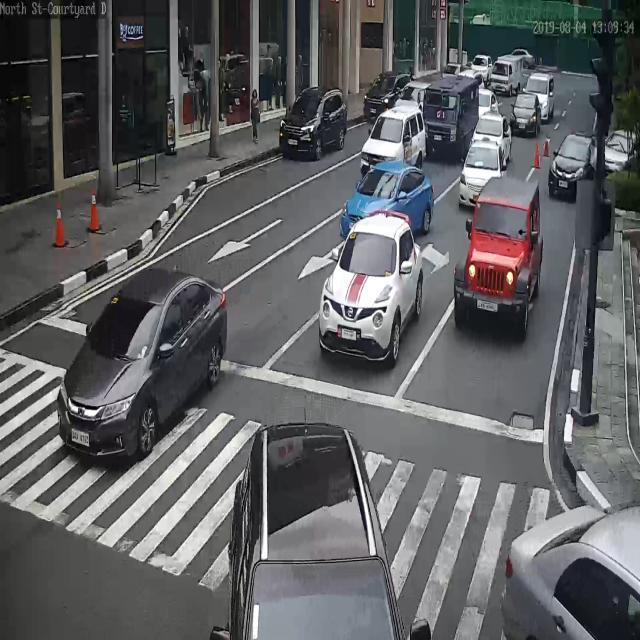bus: (422, 77, 479, 154)
car: (227, 422, 407, 640), (56, 266, 229, 459), (504, 501, 640, 639), (318, 211, 423, 365), (339, 162, 434, 243), (280, 88, 348, 165), (360, 105, 427, 180), (547, 131, 606, 201), (459, 142, 505, 206), (363, 69, 415, 125), (471, 113, 511, 164), (605, 127, 640, 175), (510, 92, 541, 139), (397, 79, 430, 106), (459, 66, 485, 90), (509, 47, 536, 69), (479, 88, 498, 119), (470, 54, 493, 78), (444, 62, 464, 77)
tricycle: (463, 169, 549, 317)
van: (490, 53, 528, 93), (525, 74, 555, 122)
